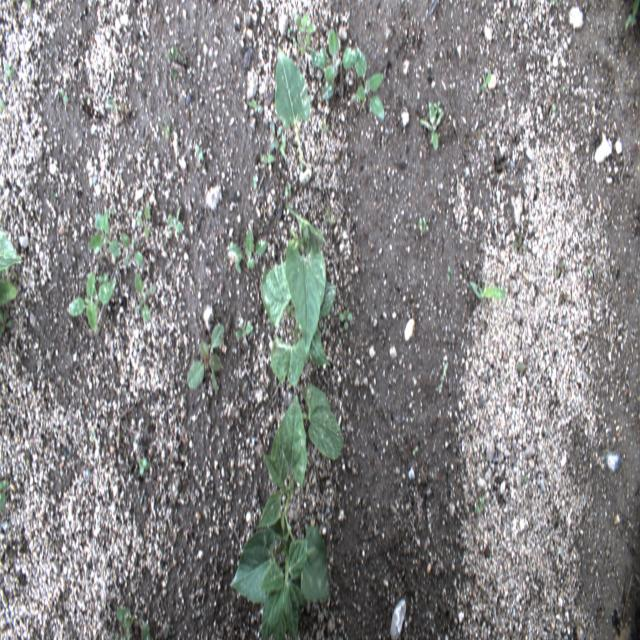crop: (230, 386, 344, 639), (260, 203, 337, 389), (274, 44, 310, 173), (0, 224, 24, 305)
weed: (310, 29, 358, 100), (67, 272, 116, 331), (187, 324, 224, 397), (352, 45, 384, 119), (226, 227, 269, 274), (88, 210, 122, 260), (419, 103, 445, 148), (292, 12, 316, 54), (134, 274, 155, 321), (120, 232, 144, 266), (469, 281, 507, 302), (164, 205, 184, 241), (167, 44, 186, 80), (116, 607, 136, 639), (623, 0, 640, 30), (137, 199, 150, 237), (158, 112, 174, 142), (338, 306, 354, 334), (552, 254, 568, 282), (268, 121, 282, 152), (236, 324, 253, 348), (512, 233, 529, 256), (0, 309, 13, 335), (438, 360, 449, 390), (0, 478, 9, 514), (479, 70, 492, 94), (545, 102, 556, 130), (138, 456, 150, 479), (260, 152, 276, 168), (247, 100, 264, 112), (59, 88, 70, 106), (474, 495, 484, 514), (141, 622, 151, 640), (4, 63, 15, 78), (326, 204, 332, 230), (195, 144, 203, 162), (0, 96, 8, 112), (284, 182, 292, 198), (98, 271, 108, 283), (23, 0, 33, 11), (418, 216, 423, 237), (434, 100, 441, 114), (587, 263, 593, 279), (252, 175, 258, 191), (446, 265, 451, 284), (423, 217, 428, 236), (322, 120, 329, 133), (292, 34, 298, 49), (411, 446, 419, 457), (90, 428, 96, 441), (517, 362, 524, 372), (287, 25, 294, 33), (323, 322, 327, 334), (551, 0, 557, 7), (26, 458, 30, 468), (115, 632, 119, 639)
